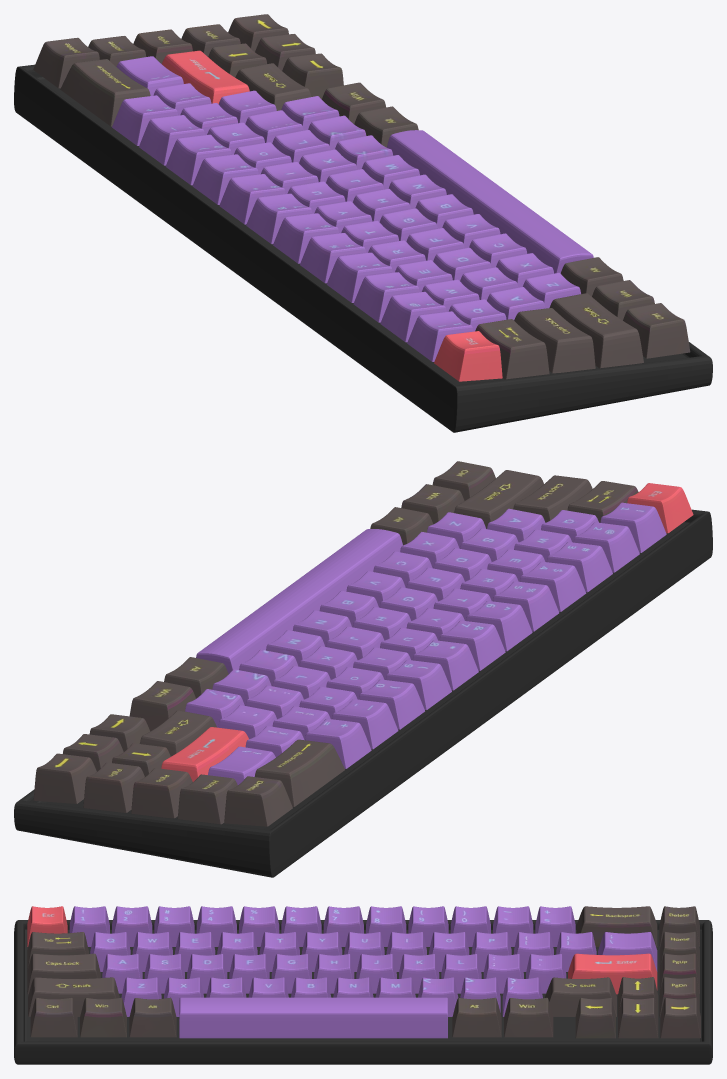
The model's file is 60_Keyboard_2_purple_black_red-transformed.glb.
3 renders of one model, top to bottom at view 1: azimuth 30°, elevation 25°; view 2: azimuth 150°, elevation 25°; view 3: azimuth 270°, elevation 25°, orthographic. The views are drawn at different scales.
Parts seen in each view (by area): view 1: Plane; view 2: Plane; view 3: Plane.
Boxes of the visible parts, <box> form: Plane: <box>14,14,712,432</box>; Plane: <box>14,461,712,877</box>; Plane: <box>14,906,712,1064</box>.
Bounding box in the file's own units: 4.25 × 1.38 × 12.64.
2 materials, 1 textured.
